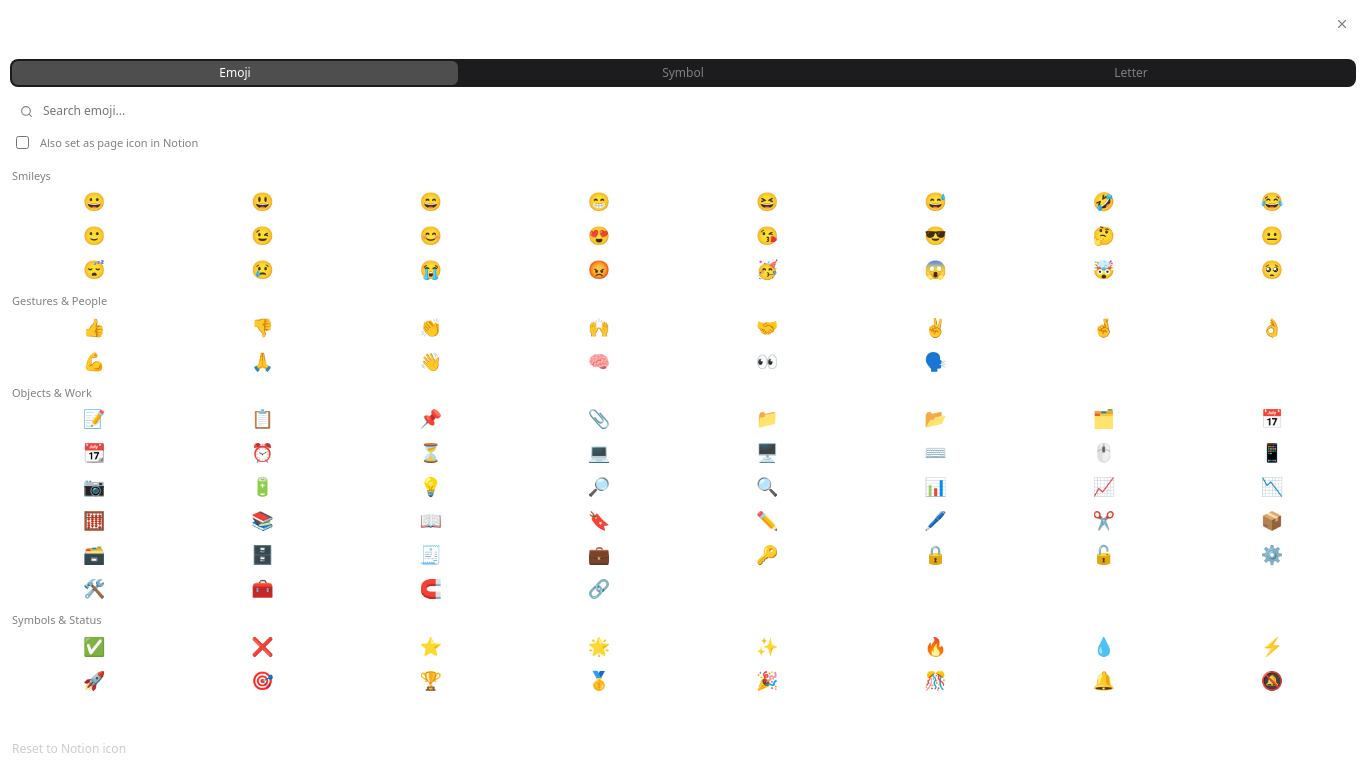
Test: IconPicker › shows the Notion error and keeps the local icon
The image size is (1366, 768).
Click the checkbox labelled "Also set as page icon in Notion". click: {"x": 22, "y": 142}
box: x1=16 y1=136 x2=29 y2=149
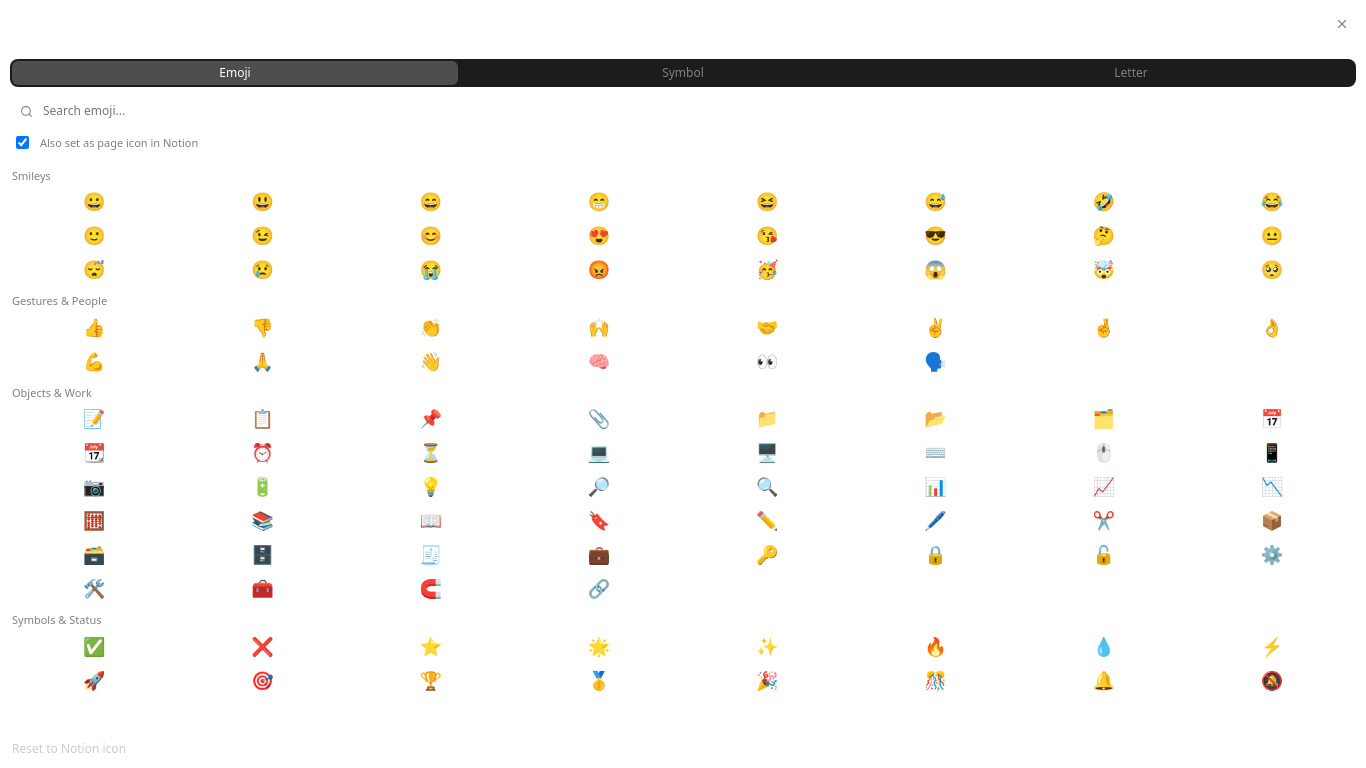
Click the button "😀". click: {"x": 94, "y": 202}
box: x1=12 y1=187 x2=176 y2=217
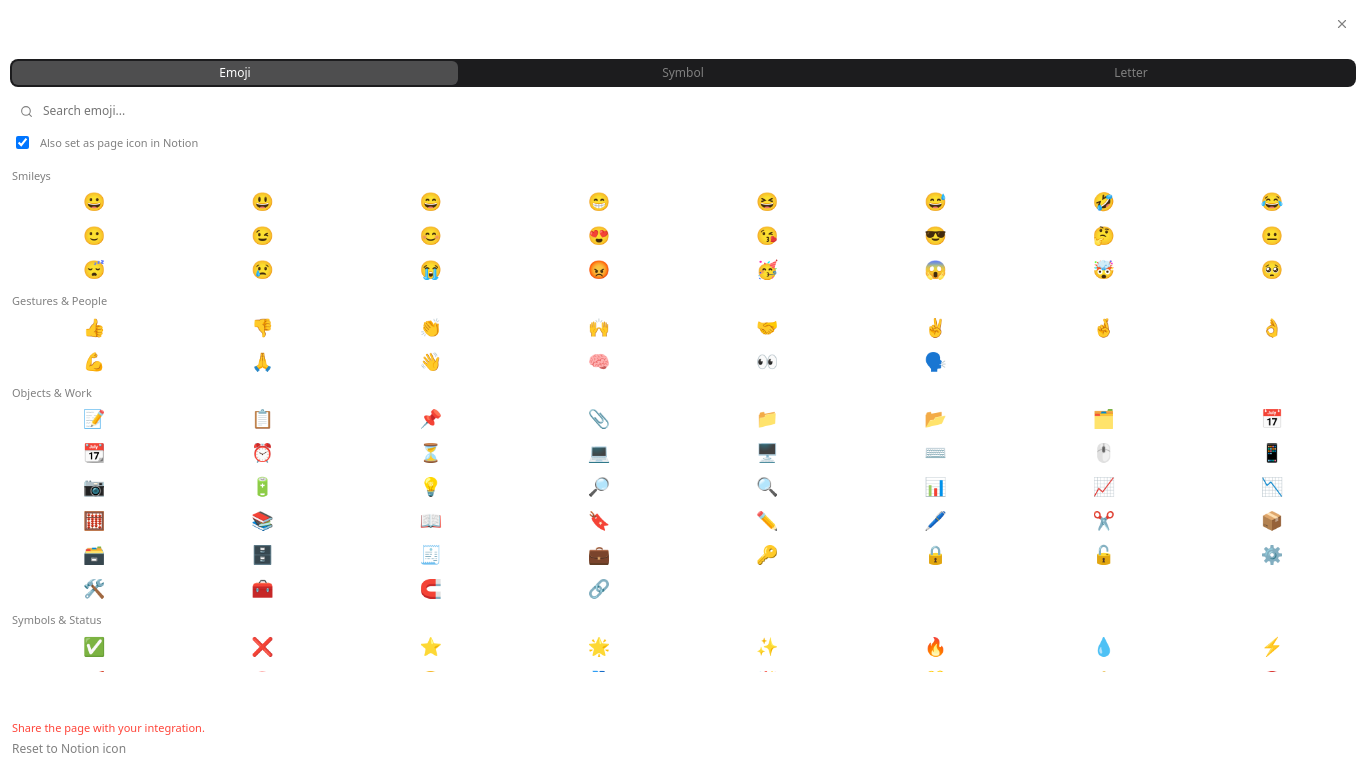
Expected: the message reads "Share the page with your integration.", x1=12 y1=720 x2=205 y2=735
